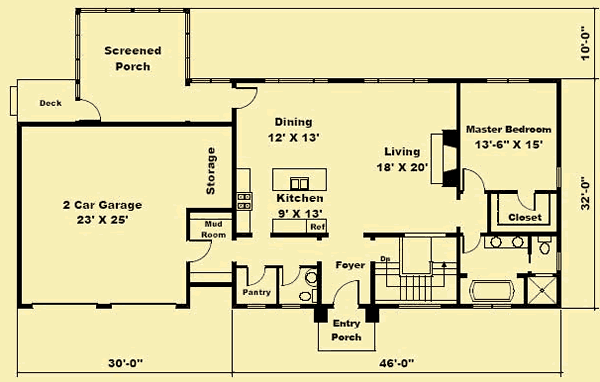door: (329, 277, 364, 312), (183, 234, 215, 266), (71, 95, 102, 124), (229, 85, 262, 111), (461, 166, 487, 197), (513, 187, 540, 212), (244, 262, 267, 288), (278, 263, 302, 286)
kitchen bar: (268, 167, 334, 194)
large sink: (531, 235, 556, 257), (296, 289, 320, 304)
small sink: (506, 234, 529, 250), (485, 235, 507, 249), (302, 268, 317, 288)
stairs: (371, 259, 462, 305)
tub: (463, 274, 519, 302)
windows: (362, 74, 431, 87), (263, 75, 328, 86), (396, 300, 444, 312), (483, 76, 531, 87), (472, 302, 513, 313), (552, 165, 564, 192), (243, 303, 270, 310), (278, 304, 303, 311)
